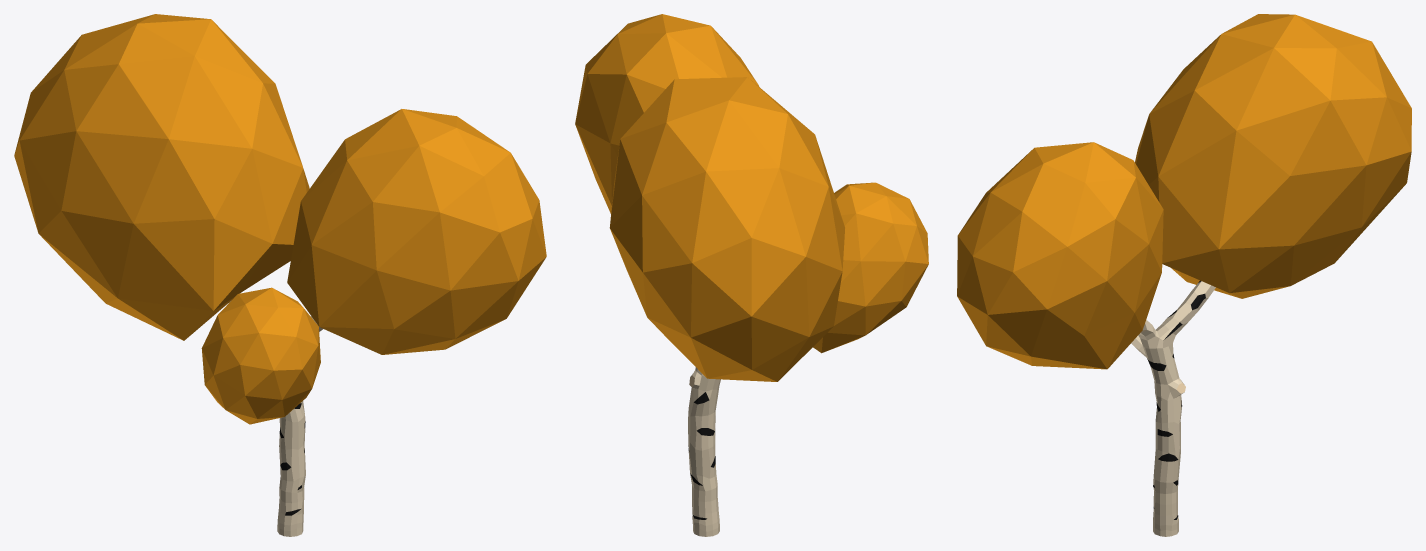
Rendered from Birch1.fbx.
3 views of the same model, side by side, from view 1: azimuth 30°, elevation 25°; view 2: azimuth 150°, elevation 25°; view 3: azimuth 270°, elevation 25° (orthographic). The views are drawn at different scales.
Parts seen in each view (by area): view 1: Circle.001; view 2: Circle.001; view 3: Circle.001.
Part boxes in pixels (bbox=[...]): Circle.001: bbox=[14, 14, 546, 525]; Circle.001: bbox=[575, 14, 928, 525]; Circle.001: bbox=[957, 14, 1411, 525].
Bounding box in the file's own units: 4426 × 5627 × 4885.
